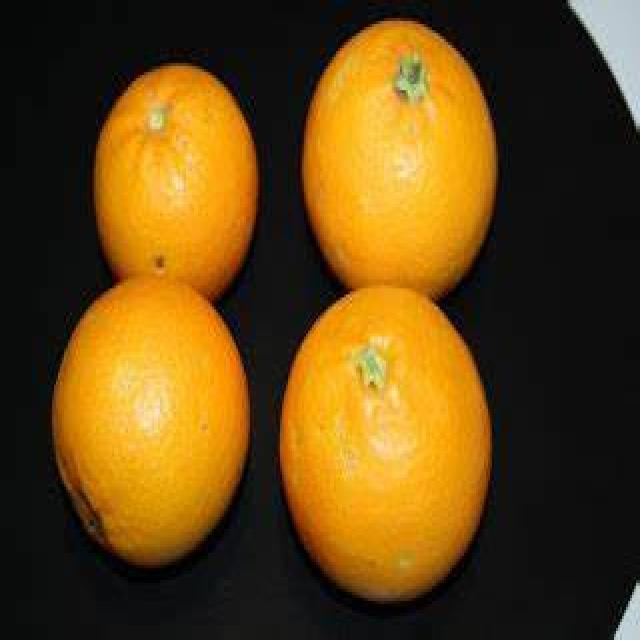Orange: (278, 282, 492, 606), (48, 274, 252, 570), (301, 20, 500, 302), (91, 63, 257, 297)
